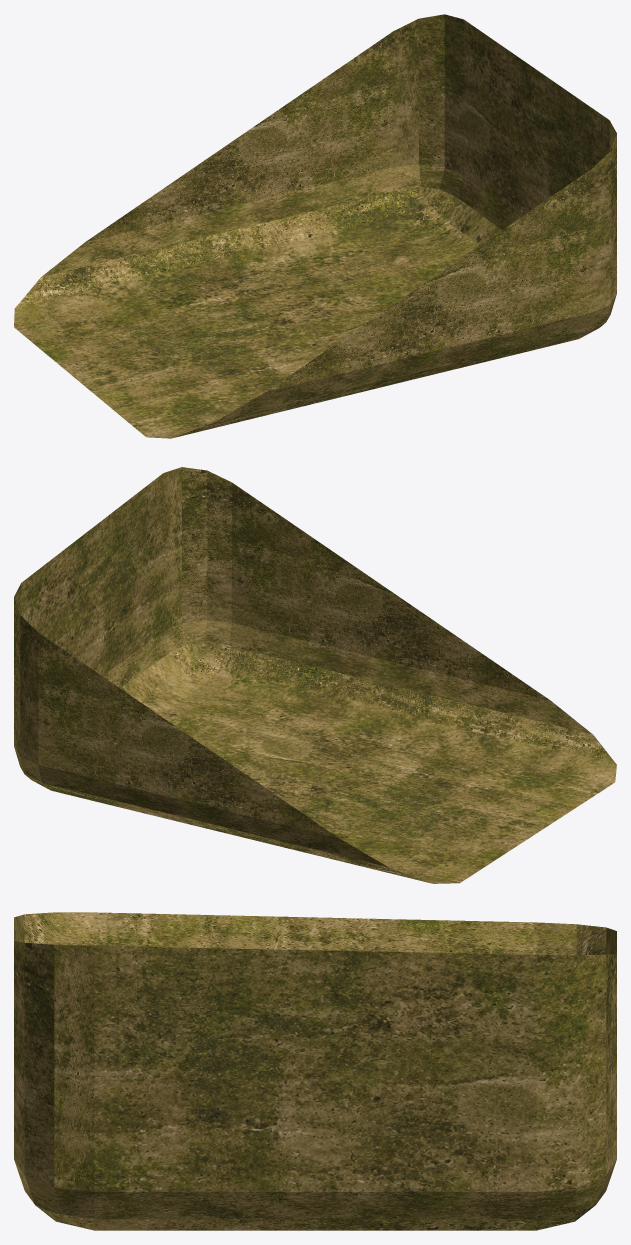
Rendered from BriquePierreCoupeBisecLongVerte.glb.
The picture shows the model from 3 angles, top to bottom: view 1: azimuth 30°, elevation 25°; view 2: azimuth 150°, elevation 25°; view 3: azimuth 270°, elevation 25°; orthographic projection. The views are drawn at different scales.
Parts seen in each view (by area): view 1: BriquePierre.001; view 2: BriquePierre.001; view 3: BriquePierre.001.
Part boxes in pixels (x1,y1,x2,y2): BriquePierre.001: (14,14,616,438); BriquePierre.001: (14,467,616,883); BriquePierre.001: (14,912,616,1230).
Bounding box in the file's own units: 7.12 × 3 × 5.29.
Materials: 1 (1 with a texture image).
